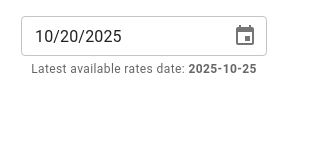
Test: <DateSelector /> › renders caption correctly and shows tooltip on hover
Expected: the text "Latest available rates date: 2025-10-25" is shown, [21,60,267,80]
Expected: the text "2025-10-25" is shown, [188,62,257,76]
// Tooltip should appear on hover
Hover over the number field labelled "10" at x=44, y=36, box [35,26,53,46]
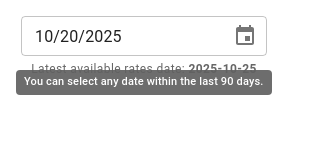
Now the tooltip shows "You can select any date within the last 90 days", box [24,75,264,88]
